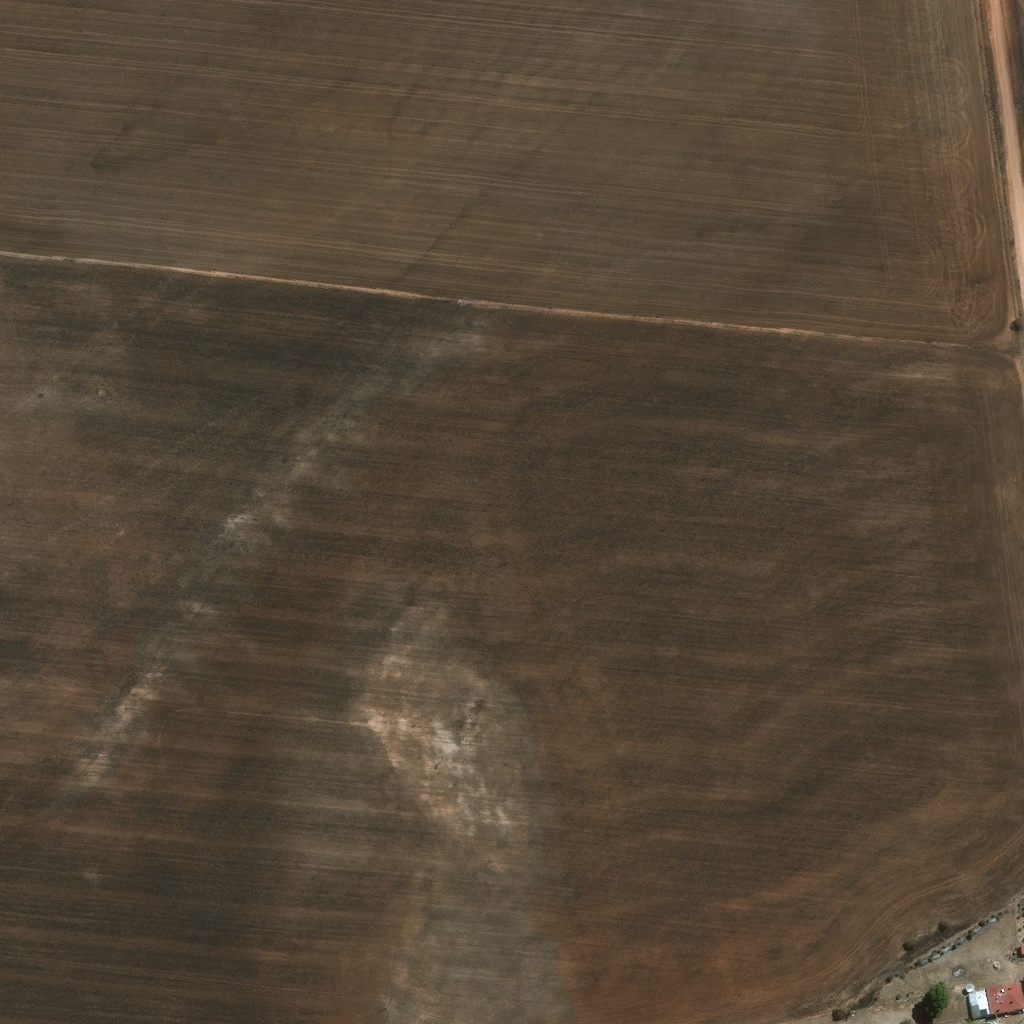0 no-damage: (984, 980, 1023, 1016), (966, 988, 990, 1019), (964, 982, 975, 991)
4 un-classified: (990, 1018, 1000, 1023)
